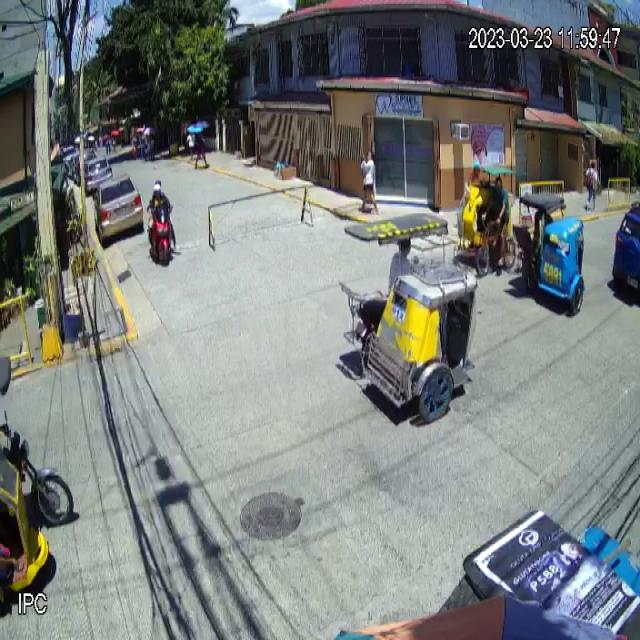Tricycle: (336, 213, 478, 422), (512, 190, 587, 317)
